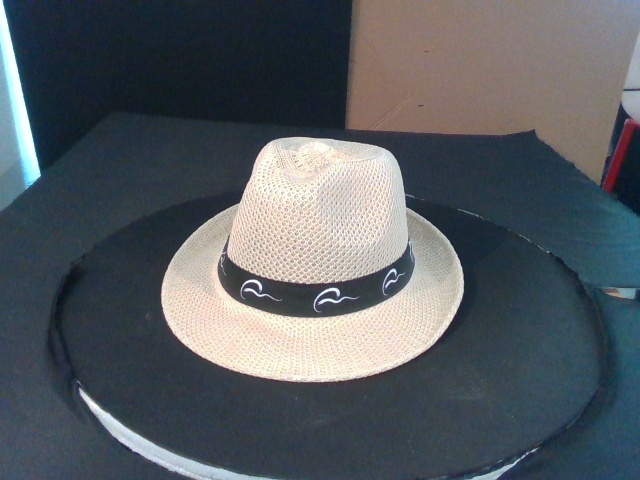hat: (159, 136, 466, 384)
